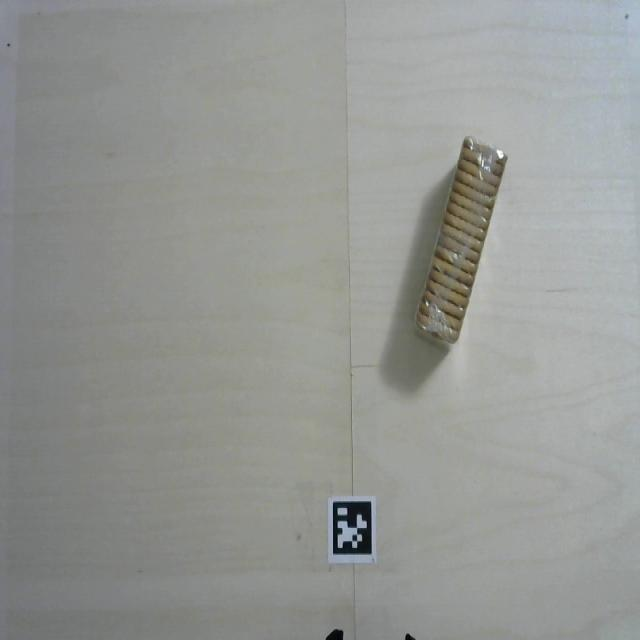biscuit: (404, 130, 515, 355)
